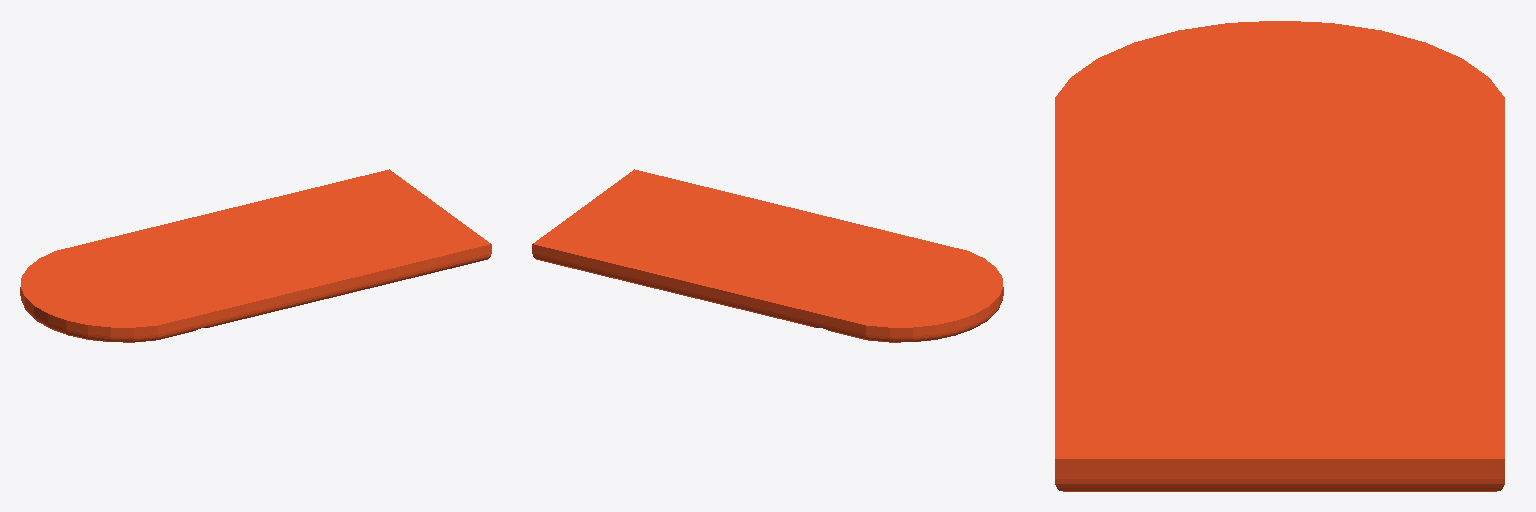
The robot description file, URDF, robot "fridge":
<?xml version="1.0" ?>
<robot name="fridge">
	<link name="base"/>
	<link name="link_0">
		<visual name="out-frame">
			<origin xyz="0 0 0"/>
			<geometry>
				<mesh filename="texture_dae/frame.dae" scale="0.7 0.7 0.7"/>
			</geometry>
		</visual>
		<collision>
			<origin xyz="0 0 0"/>
			<geometry>
				<mesh filename="texture_dae/frame.dae" scale="0.7 0.7 0.7"/>
			</geometry>
		</collision>
	</link>
	<joint name="joint_0" type="fixed">
		<origin rpy="1.570796326794897 0 -1.570796326794897" xyz="0 0 0"/>
		<child link="link_0"/>
		<parent link="base"/>
	</joint>
	<link name="link_1">
		<visual name="surf-board">
			<origin xyz="0.4790247404884872 -0.6399048990104347 0"/>
			<geometry>
				<mesh filename="texture_dae/board.dae" scale="0.7 0.7 0.7"/>
			</geometry>
		</visual>
		<collision>
			<origin xyz="0.4790247404884872 -0.6399048990104347 0"/>
			<geometry>
				<mesh filename="texture_dae/board.dae" scale="0.7 0.7 0.7"/>
			</geometry>
		</collision>
	</link>
	<joint name="joint_1" type="revolute">
		<origin xyz="-0.4790247404884872 0.6399048990104347 0"/>
		<axis xyz="0 -1 0"/>
		<child link="link_1"/>
		<parent link="link_0"/>
		<limit lower="0" upper="1.5079644737231006"/>
	</joint>
	<link name="link_2">
		<visual name="handle">
			<origin xyz="0 0 0"/>
			<geometry>
				<mesh filename="texture_dae/9960042.dae" scale="1 1 1"/>
			</geometry>
		</visual>
		<collision>
			<origin xyz="0 0 0"/>
			<geometry>
				<mesh filename="texture_dae/9960042.dae" scale="1 1 1"/>
			</geometry>
		</collision>
	</link>
	<joint name="joint_2" type="revolute">
		<origin xyz="0.4790247404884872 -0.6399048990104347 0.03041693019477198"/>
		<child link="link_2"/>
		<parent link="link_1"/>
		<axis xyz="0 0 1"/>
		<limit lower="0" upper="1.5079644737231006"/>
	</joint>
</robot>

--- Render facts (derived) ---
Views: 3 orthographic renders of the robot side by side, from view 1: azimuth 30°, elevation 25°; view 2: azimuth 150°, elevation 25°; view 3: azimuth 270°, elevation 25°.
Robot: fridge — 4 links, 3 joints (2 revolute, 1 fixed); root link base; default pose: all joints at 0.
Links seen in each view (by area): view 1: link_1; view 2: link_1; view 3: link_1.
Boxes of the visible links, x1=… form: link_1: x1=20, y1=169, x2=491, y2=342; link_1: x1=532, y1=169, x2=1003, y2=342; link_1: x1=1055, y1=21, x2=1504, y2=491.
Size in the robot's own frame: 1.32 by 0.5759 by 0.0712 metres.
2 mesh visuals loaded from 3 distinct referenced files (2 Collada DAE); not drawn: 1 (file found but could not be loaded).
